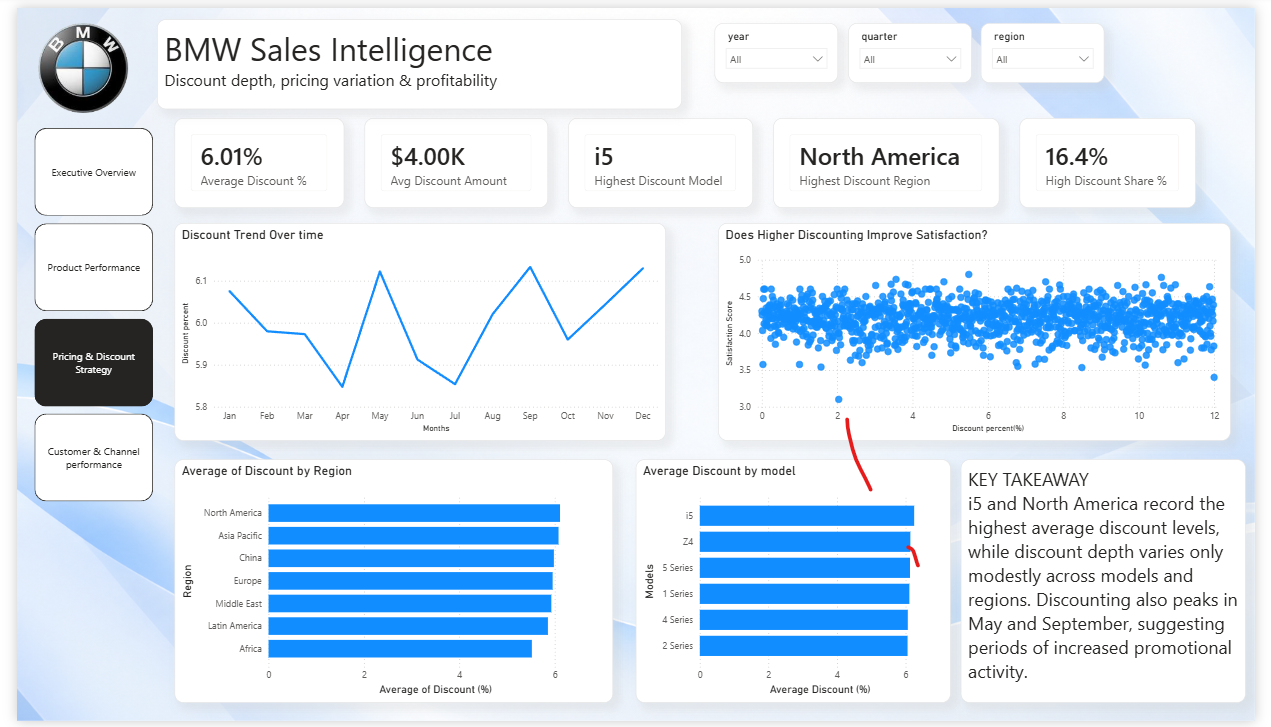

This screenshot's page, from the dashboard's own definition file:
{"tool":"powerbi","page":{"name":"Pricing & Discount Strategy","canvas":[1650,950],"ordinal":2},"visuals":[{"type":"image","box":[0,0,1651,951],"z":0},{"type":"cardVisual","fields":{"Data":["public factsales.Avg Discount percent"]},"box":[210,146.7,226.7,120],"z":1000},{"type":"cardVisual","fields":{"Data":["Avg(public factsales.discount_amount_usd)"]},"box":[463.3,146.7,245,120],"z":2000},{"type":"clusteredBarChart","title":"Average Discount by model","fields":{"Category":["public dimmodel.model"],"Y":["Avg(public factsales.discount_percent)"]},"box":[825,601.7,420,325],"z":3000},{"type":"clusteredBarChart","title":"Average of Discount by Region","fields":{"Category":["public dimregion.region"],"Y":["Avg(public factsales.discount_percent)"]},"box":[210,601.7,585,325],"z":4000},{"type":"lineChart","title":"Discount Trend Over time","fields":{"Category":["public dimdate.month_name"],"Y":["Avg(public factsales.discount_percent)"]},"box":[210,286.7,655,290],"z":5000},{"type":"scatterChart","title":"Does Higher Discounting Improve Satisfaction?","fields":{"X":["public factsales.discount_percent"],"Y":["Avg(public factsales.customer_satisfaction_score)"]},"box":[935,286.7,683.3,290],"z":6000},{"type":"slicer","fields":{"Values":["public dimdate.year"]},"box":[930,20,165,80],"z":7000},{"type":"cardVisual","fields":{"Data":["public factsales.Highest Discount Model"]},"box":[735,146.7,246.7,120],"z":8000},{"type":"pageNavigator","box":[23.3,160,158,500],"z":9000},{"type":"cardVisual","fields":{"Data":["public factsales.Highest Discount Region"]},"box":[1008.3,146.7,301.7,120],"z":10000},{"type":"slicer","fields":{"Values":["public dimdate.quarter"]},"box":[1107.5,20,165,80],"z":11000},{"type":"slicer","fields":{"Values":["public dimregion.region"]},"box":[1285,20,165,80],"z":12000},{"type":"textbox","box":[186,15,700,120],"z":13000},{"type":"image","box":[23.3,20,130,120],"z":14000},{"type":"textbox","box":[1258.3,601.7,380,325],"z":15000},{"type":"cardVisual","fields":{"Data":["public factsales.High Discount Share %"]},"box":[1336.7,146.7,235,120],"z":16000}]}

Visuals, with their boxes in screenshot pixels (x1, y1, x2, y2), scaled from the page's 1650x950 canvas onto the 1271x727 screenshot:
image: [left=0, top=0, right=1270, bottom=726]
cardVisual - public factsales.Avg Discount percent: [left=162, top=112, right=336, bottom=204]
cardVisual - Avg(public factsales.discount_amount_usd): [left=357, top=112, right=546, bottom=204]
"Average Discount by model" clusteredBarChart: [left=636, top=460, right=959, bottom=709]
"Average of Discount by Region" clusteredBarChart: [left=162, top=460, right=612, bottom=709]
"Discount Trend Over time" lineChart: [left=162, top=219, right=666, bottom=441]
"Does Higher Discounting Improve Satisfaction?" scatterChart: [left=720, top=219, right=1247, bottom=441]
slicer - public dimdate.year: [left=716, top=15, right=843, bottom=77]
cardVisual - public factsales.Highest Discount Model: [left=566, top=112, right=756, bottom=204]
pageNavigator: [left=18, top=122, right=140, bottom=505]
cardVisual - public factsales.Highest Discount Region: [left=777, top=112, right=1009, bottom=204]
slicer - public dimdate.quarter: [left=853, top=15, right=980, bottom=77]
slicer - public dimregion.region: [left=990, top=15, right=1117, bottom=77]
textbox: [left=143, top=11, right=682, bottom=103]
image: [left=18, top=15, right=118, bottom=107]
textbox: [left=969, top=460, right=1262, bottom=709]
cardVisual - public factsales.High Discount Share %: [left=1030, top=112, right=1211, bottom=204]
